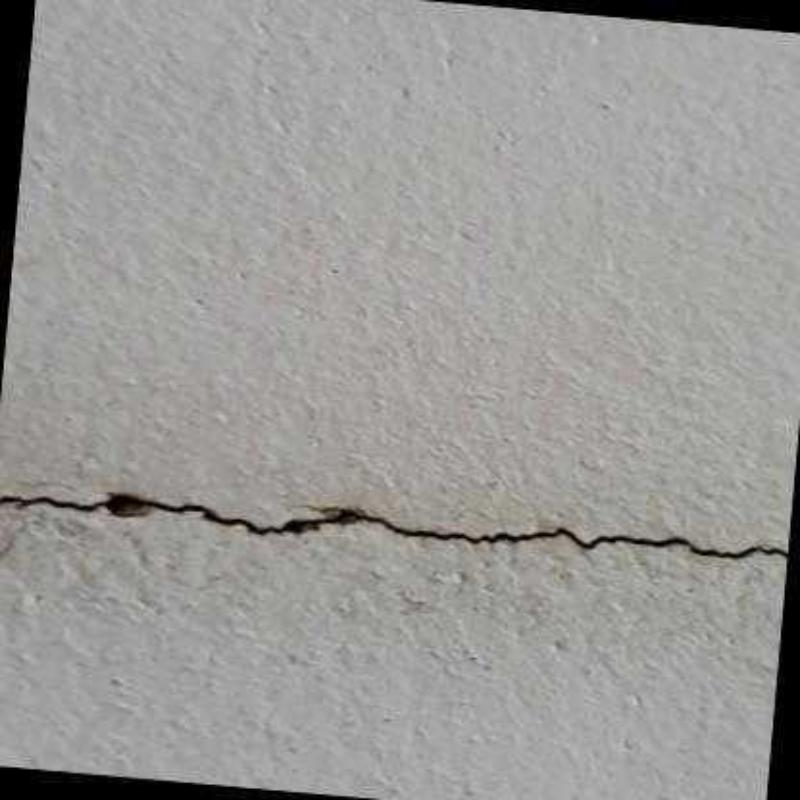pothole: (0, 492, 789, 565)
